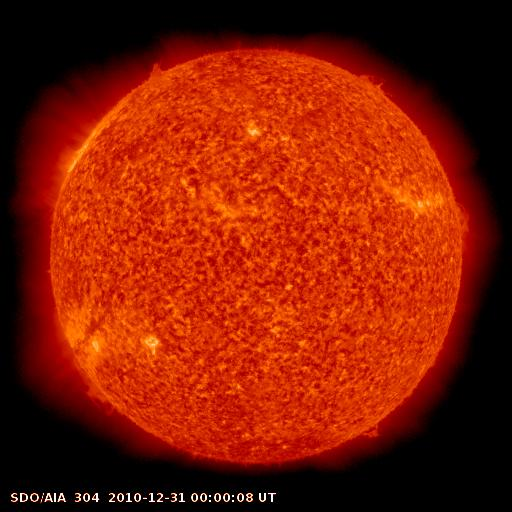prominence: (344, 60, 406, 117), (70, 374, 134, 423), (128, 47, 179, 92), (450, 192, 484, 248), (356, 414, 395, 453)
